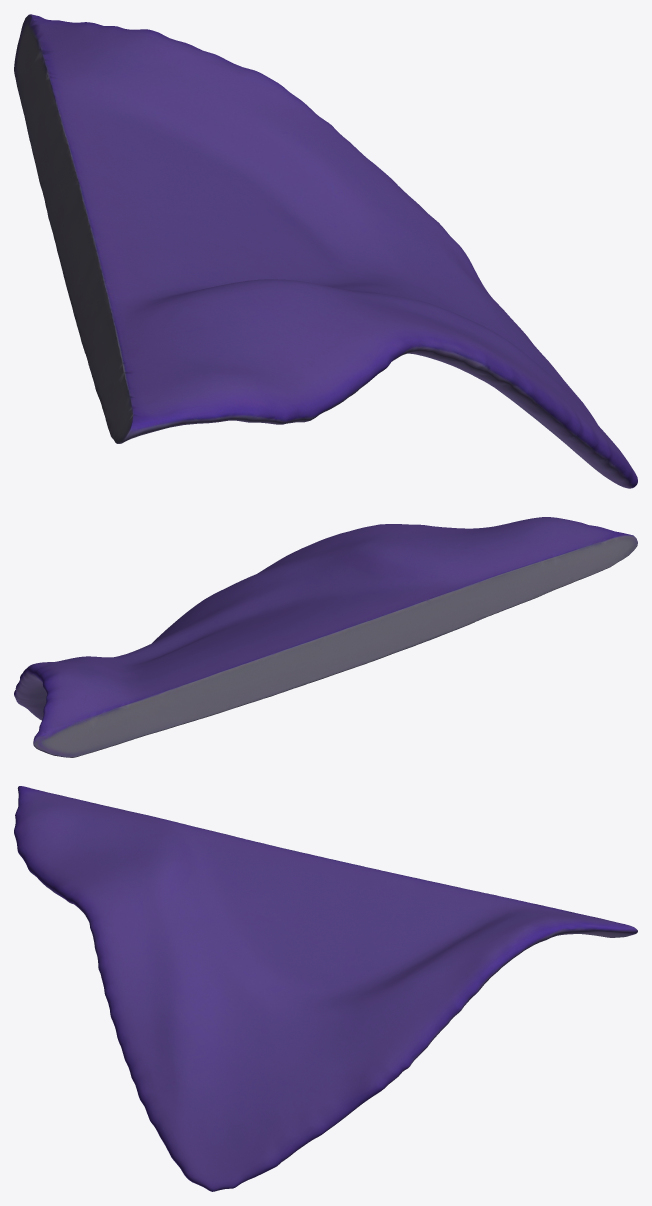
3 views of the same model, one above another, from view 1: azimuth 30°, elevation 25°; view 2: azimuth 150°, elevation 25°; view 3: azimuth 270°, elevation 25° (orthographic). The views are drawn at different scales.
Parts seen in each view (by area): view 1: Mesh::generatedModels/gbPog574PrxNG9nsbMsk.gltf; view 2: Mesh::generatedModels/gbPog574PrxNG9nsbMsk.gltf; view 3: Mesh::generatedModels/gbPog574PrxNG9nsbMsk.gltf.
Part boxes in pixels (x1=…): Mesh::generatedModels/gbPog574PrxNG9nsbMsk.gltf: x1=14, y1=14, x2=637, y2=488; Mesh::generatedModels/gbPog574PrxNG9nsbMsk.gltf: x1=14, y1=517, x2=637, y2=757; Mesh::generatedModels/gbPog574PrxNG9nsbMsk.gltf: x1=14, y1=786, x2=637, y2=1191.
Bounding box in the file's own units: 0.7778 × 0.3729 × 1.
1 material, 1 textured.
